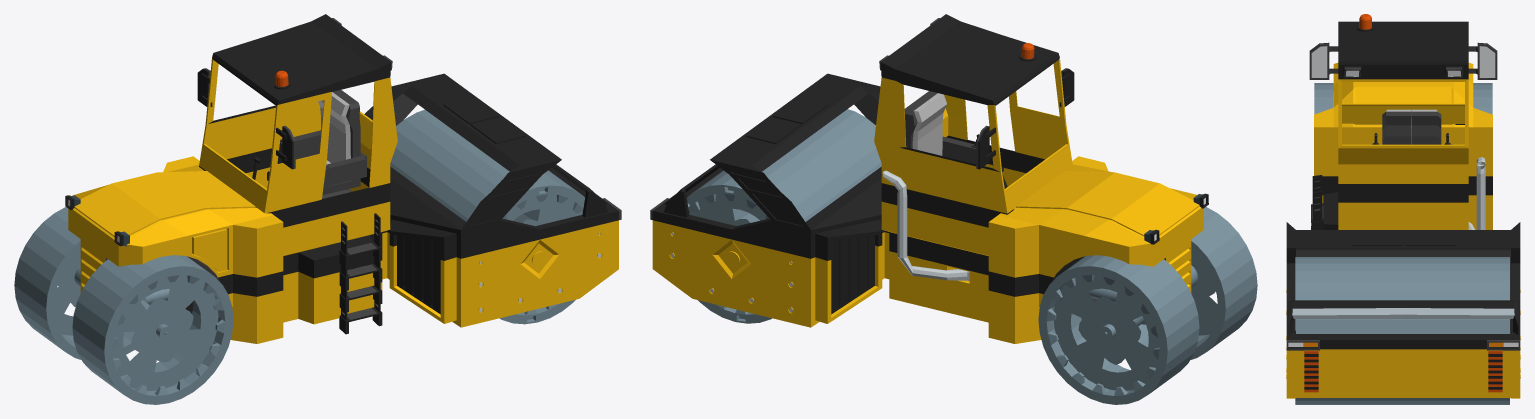
The model's file is tractor.gltf.
3 views of the same model, side by side, from view 1: azimuth 30°, elevation 25°; view 2: azimuth 150°, elevation 25°; view 3: azimuth 270°, elevation 25° (orthographic).
Visible parts, largest first — view 1: Cube.170, Cube.166, Cube.165, Cylinder.095, Cylinder.097, Cylinder.096, Cube.176, Cube.159, Cube.167; view 2: Cube.170, Cube.166, Cube.165, Cylinder.096, Cylinder.097, Cylinder.095, Cube.176, Cube.167; view 3: Cube.166, Cube.170, Cylinder.097, Cube.165, Cube.176, Cube.167, Cube.159, Cylinder.095, Cylinder.096, Cube.168.
Boxes of the visible parts, x1,y1,x2,y2 form: Cube.170: (199,14,397,324); Cube.166: (364,73,621,327); Cube.165: (68,156,283,343); Cylinder.095: (72,255,233,404); Cylinder.097: (390,109,584,324); Cylinder.096: (14,207,173,359); Cube.176: (267,90,366,198); Cube.159: (339,213,382,334); Cube.167: (197,18,392,169); Cube.170: (874,14,1072,322); Cube.166: (650,73,889,327); Cube.165: (988,156,1203,343); Cylinder.096: (1038,255,1199,404); Cylinder.097: (687,109,881,323); Cylinder.095: (1137,207,1257,359); Cube.176: (904,91,978,163); Cube.167: (879,18,1074,169); Cube.166: (1286,222,1520,398); Cube.170: (1323,21,1485,229); Cylinder.097: (1295,257,1509,404); Cube.165: (1314,62,1492,229); Cube.176: (1371,109,1452,144); Cube.167: (1309,42,1497,79); Cube.159: (1311,175,1323,229); Cylinder.095: (1314,83,1333,114); Cylinder.096: (1473,83,1492,114); Cube.168: (1357,14,1374,31).
Bounding box in the file's own units: 14.09 × 7.44 × 5.72.
1 material, 1 textured.
